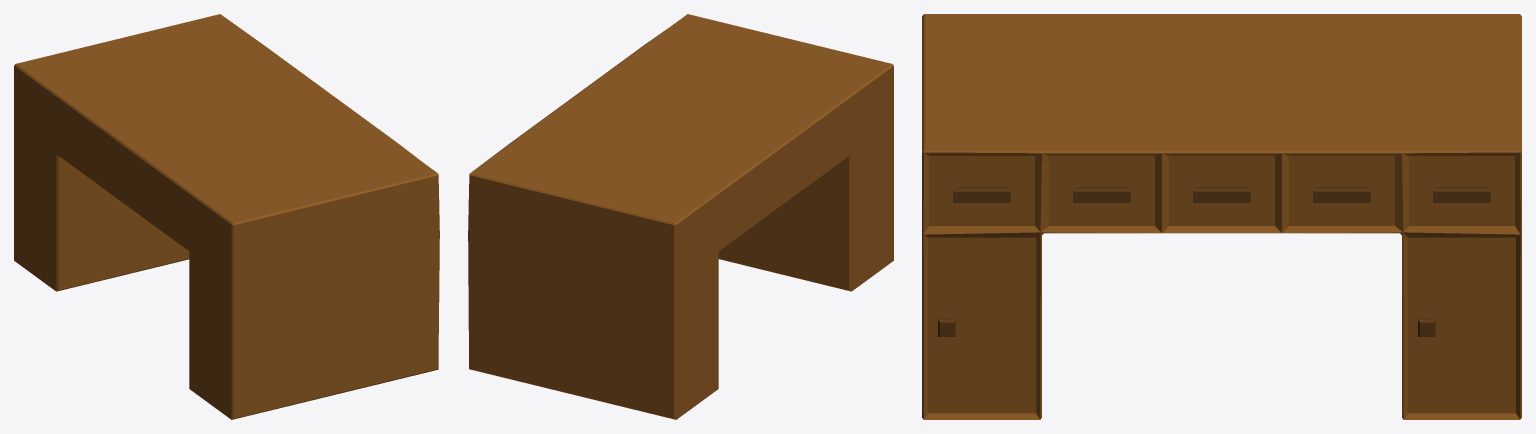
Rendered from desk.fbx.
3 renders of one model, left to right at view 1: azimuth 30°, elevation 25°; view 2: azimuth 150°, elevation 25°; view 3: azimuth 270°, elevation 25°, orthographic. The views are drawn at different scales.
Parts seen in each view (by area): view 1: Cube; view 2: Cube; view 3: Cube.
Boxes of the visible parts, box(x1,y1,x2,y2) form: Cube: box(14, 14, 439, 419); Cube: box(468, 14, 893, 419); Cube: box(922, 14, 1521, 419).
Size of the model in its own units: 973 by 858 by 1734.
